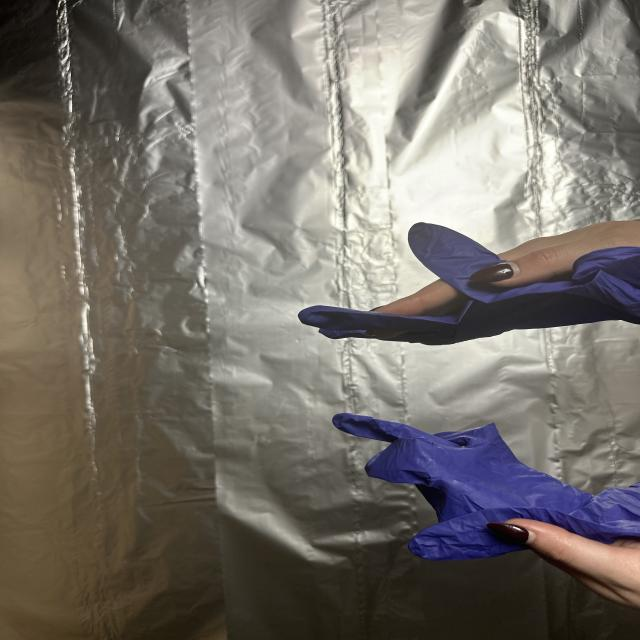glove_not_fitted: (328, 404, 640, 608), (302, 211, 640, 388)
